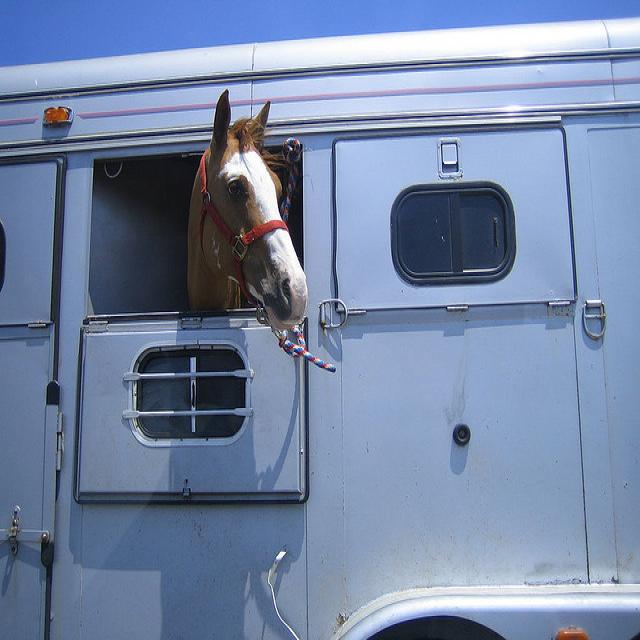Vehicle: (2, 14, 640, 629)
